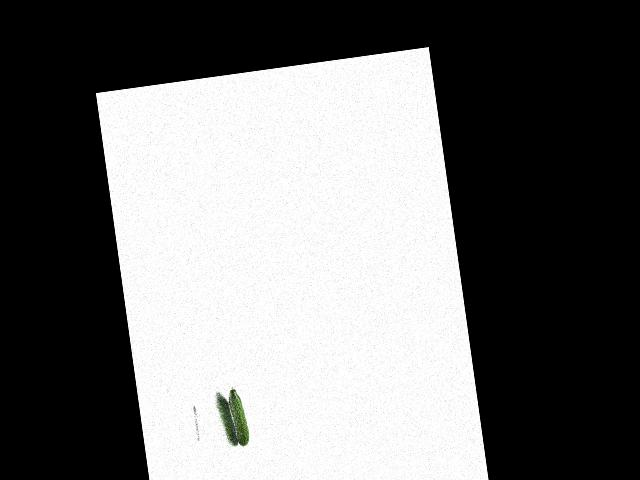cucumber: (226, 385, 250, 446)
